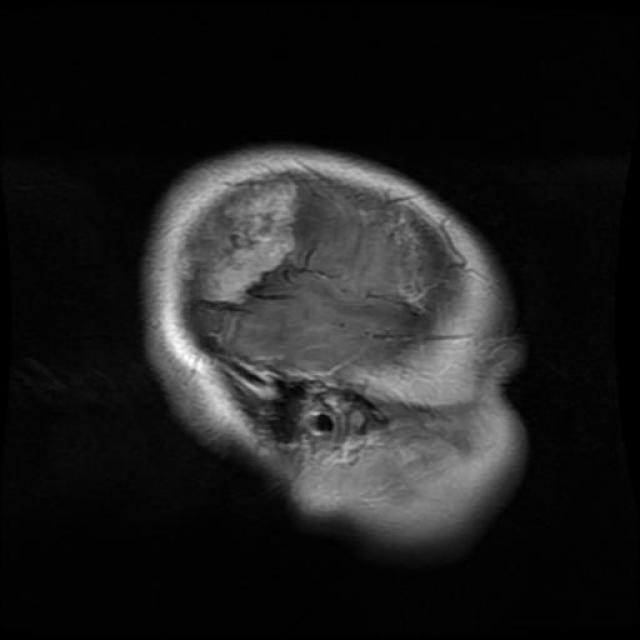meningioma: (188, 178, 298, 305)
